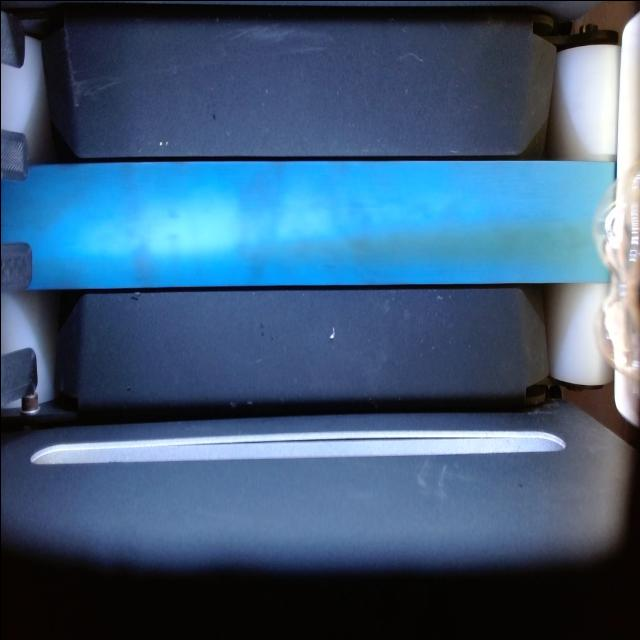bottom: (594, 164, 640, 397)
